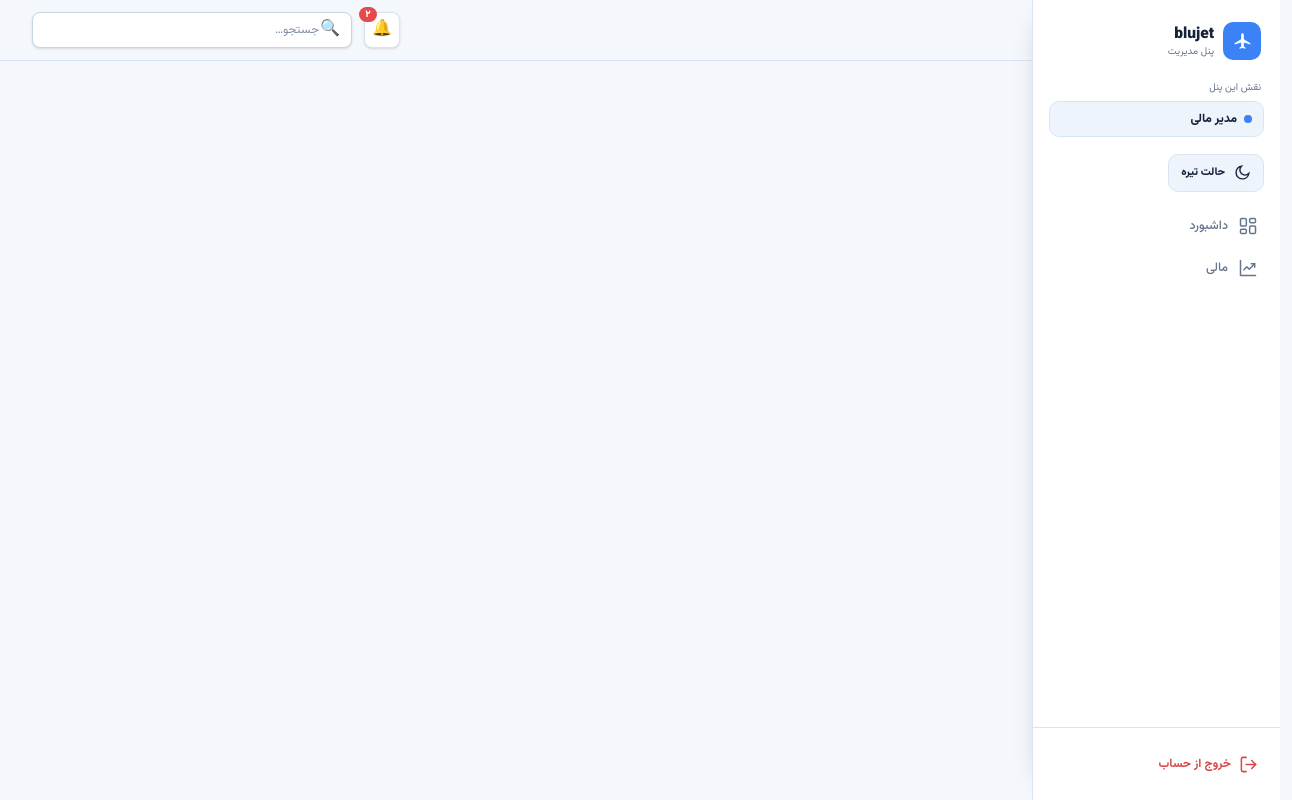
Test: PanelShell › shows only persisted unread notifications in the notification bell
This screenshot has width=1292, height=800.
Expected: the text with test id "notification-bell-count" reads "۲", [365,7,371,22]
Click the button named "اعلان‌ها".
click(382, 30)  # box [364,12,400,48]
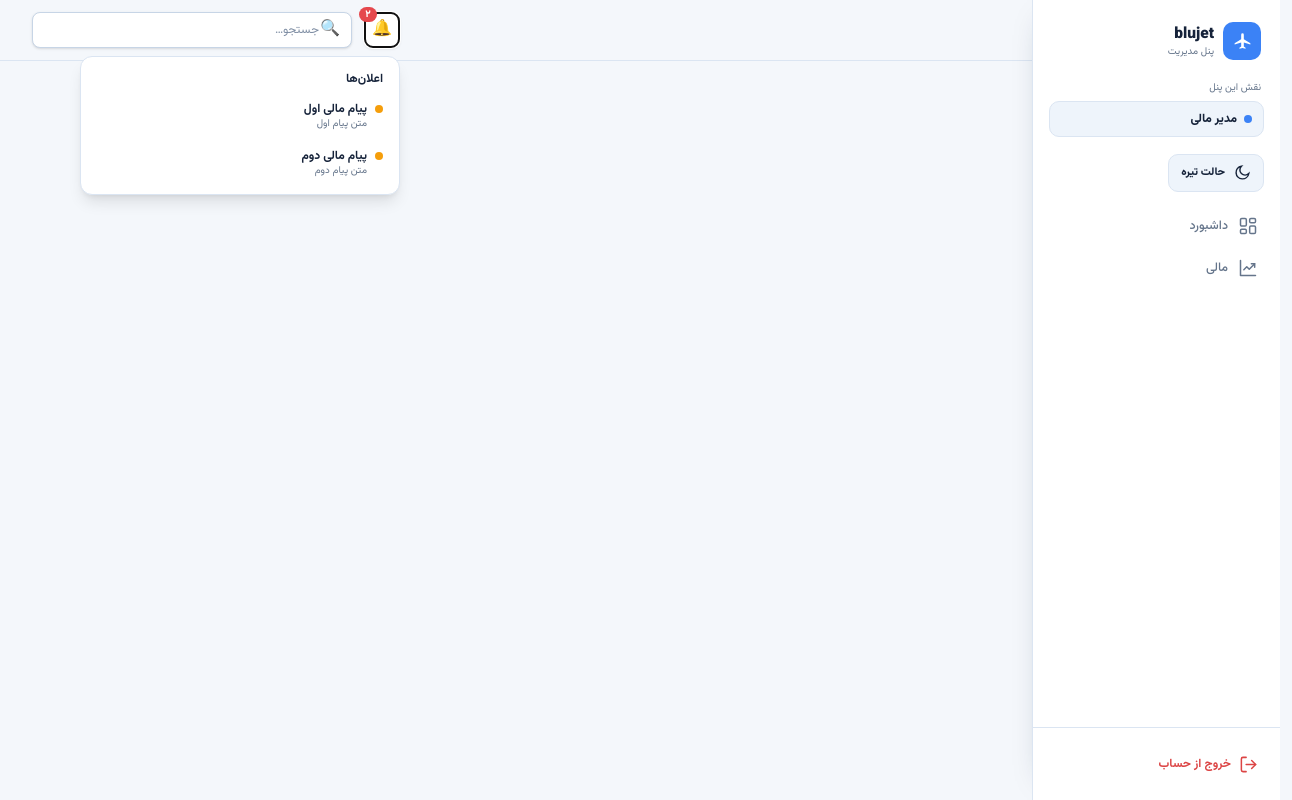
Now the text "پیام مالی اول" is shown, box [304,100,367,118]
Now the text "پیام مالی دوم" is shown, box [301,147,367,165]
